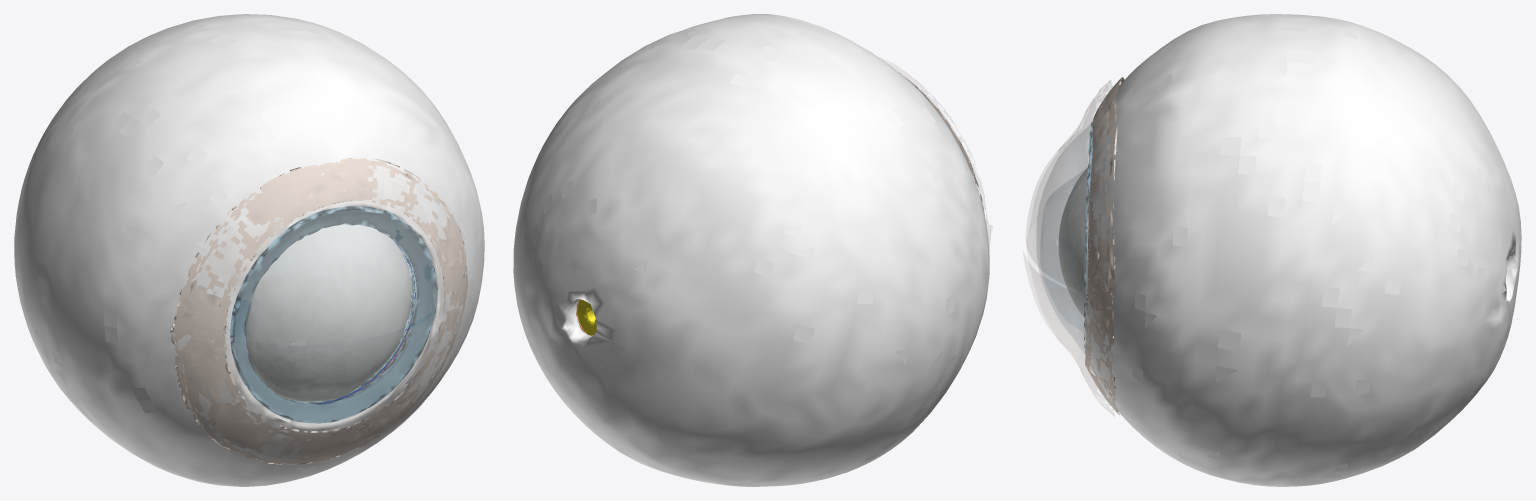
Rendered from 3d-vh-f-eye-r-80.glb.
3 renders of one model, left to right at view 1: azimuth 30°, elevation 25°; view 2: azimuth 150°, elevation 25°; view 3: azimuth 270°, elevation 25°, orthographic.
Visible parts, largest first — view 1: VH_F_sclera_R, VH_F_cornea_R, VH_F_palpebral_conjunctiva_of_right_upper_eyelid, VH_F_palpebral_conjunctiva_of_right_lower_eyelid, VH_F_bulbar_conjunctiva_R, VH_F_aqueous_humor_R, VH_F_corneo_scleral_junction_R, VH_F_trabecular_meshwork_R; view 2: VH_F_sclera_R, VH_F_palpebral_conjunctiva_of_right_upper_eyelid; view 3: VH_F_sclera_R, VH_F_palpebral_conjunctiva_of_right_upper_eyelid, VH_F_cornea_R, VH_F_bulbar_conjunctiva_R, VH_F_palpebral_conjunctiva_of_right_lower_eyelid, VH_F_aqueous_humor_R, VH_F_corneo_scleral_junction_R.
Part boxes in pixels (bbox=[...]): VH_F_sclera_R: bbox=[14, 14, 484, 486]; VH_F_cornea_R: bbox=[231, 208, 437, 422]; VH_F_palpebral_conjunctiva_of_right_upper_eyelid: bbox=[177, 162, 467, 344]; VH_F_palpebral_conjunctiva_of_right_lower_eyelid: bbox=[175, 276, 473, 467]; VH_F_bulbar_conjunctiva_R: bbox=[170, 158, 468, 464]; VH_F_aqueous_humor_R: bbox=[245, 224, 411, 401]; VH_F_corneo_scleral_junction_R: bbox=[230, 206, 437, 423]; VH_F_trabecular_meshwork_R: bbox=[287, 241, 416, 403]; VH_F_sclera_R: bbox=[513, 14, 989, 486]; VH_F_palpebral_conjunctiva_of_right_upper_eyelid: bbox=[879, 57, 987, 222]; VH_F_sclera_R: bbox=[1085, 14, 1521, 486]; VH_F_palpebral_conjunctiva_of_right_upper_eyelid: bbox=[1026, 80, 1112, 309]; VH_F_cornea_R: bbox=[1037, 124, 1091, 353]; VH_F_bulbar_conjunctiva_R: bbox=[1084, 77, 1124, 414]; VH_F_palpebral_conjunctiva_of_right_lower_eyelid: bbox=[1023, 220, 1114, 416]; VH_F_aqueous_humor_R: bbox=[1058, 168, 1088, 317]; VH_F_corneo_scleral_junction_R: bbox=[1084, 121, 1092, 353].
Bounding box in the file's own units: 0.0245 × 0.0244 × 0.0257.
